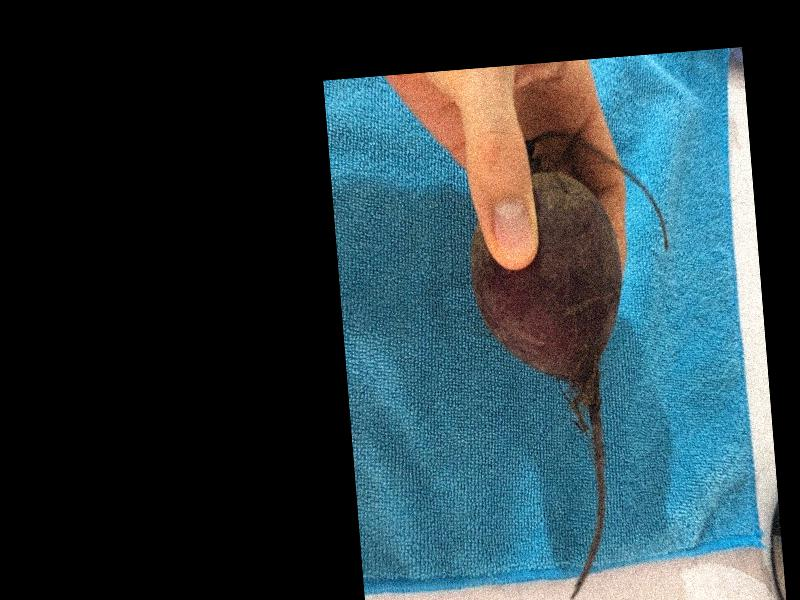Beet: (460, 124, 694, 600)
